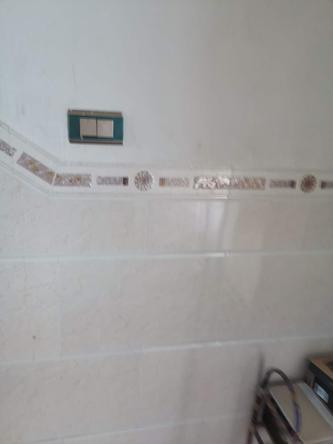switch: (96, 117, 115, 138), (80, 117, 97, 137)
